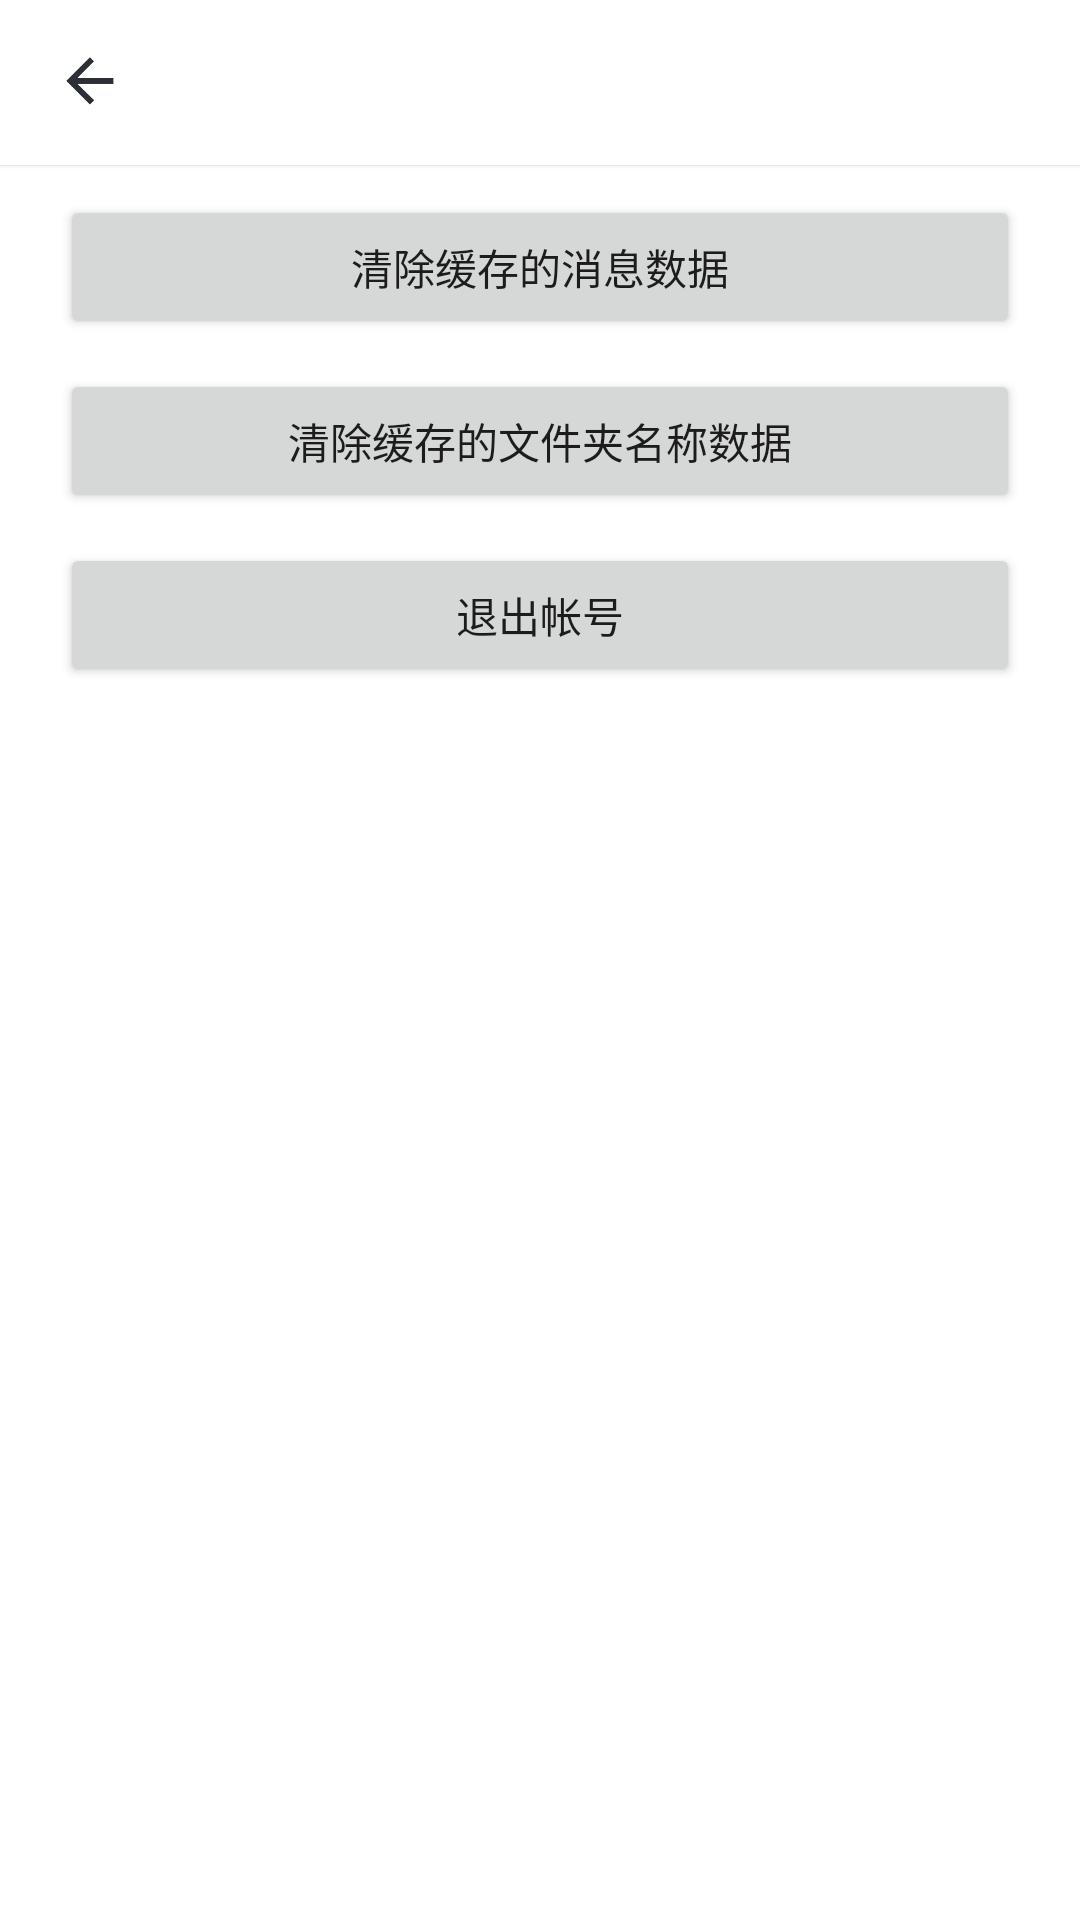

Icon click points for this 1080×1920 phone screenshot, format point (x, y):
back: point (90, 81)
